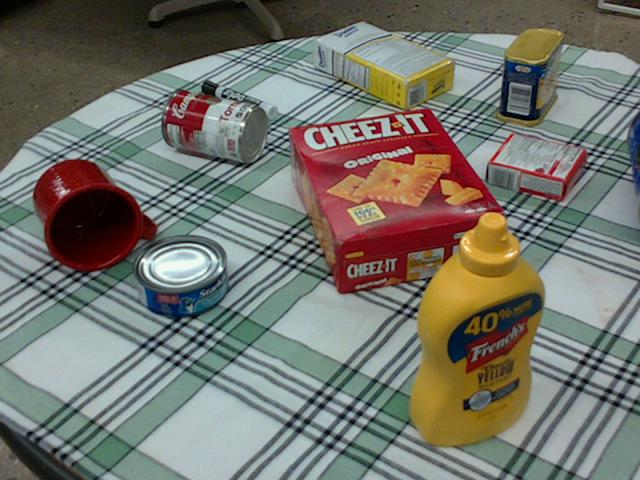cracker_box: (291, 108, 505, 291)
gelatin_box: (485, 133, 583, 198)
large_marker: (200, 80, 275, 118)
master_chef_can: (623, 109, 639, 215)
mug: (31, 158, 152, 270)
mustard_bottle: (411, 210, 547, 444)
potted_meat_can: (495, 28, 561, 126)
sugar_box: (313, 22, 457, 109)
tomato_soup_can: (160, 88, 267, 161)
tuna_fish_can: (130, 234, 226, 317)
